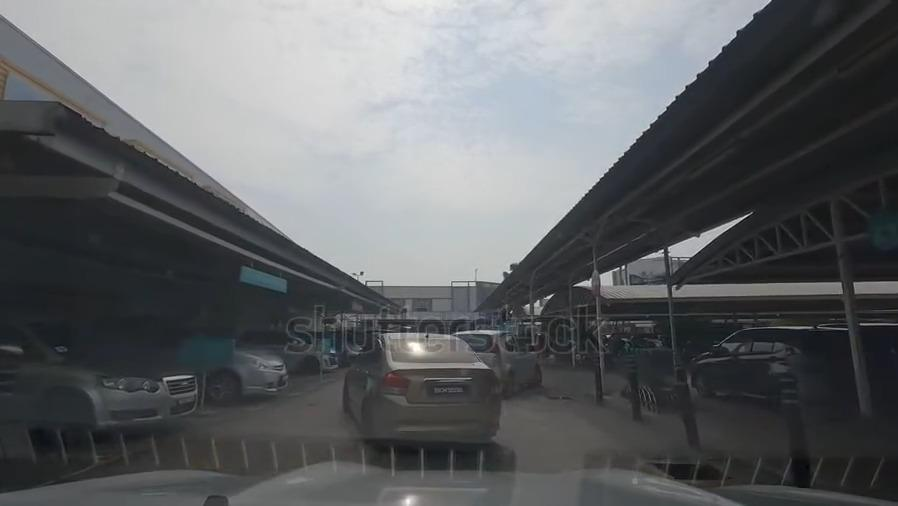car: (0, 323, 201, 431), (342, 335, 495, 447), (692, 328, 855, 403), (159, 326, 289, 401), (466, 332, 552, 390), (236, 331, 339, 375)
manhole: (648, 455, 725, 482), (544, 392, 571, 403)
wheel: (38, 391, 88, 441), (209, 370, 236, 403), (298, 356, 316, 376), (507, 371, 516, 394), (535, 363, 543, 386)
